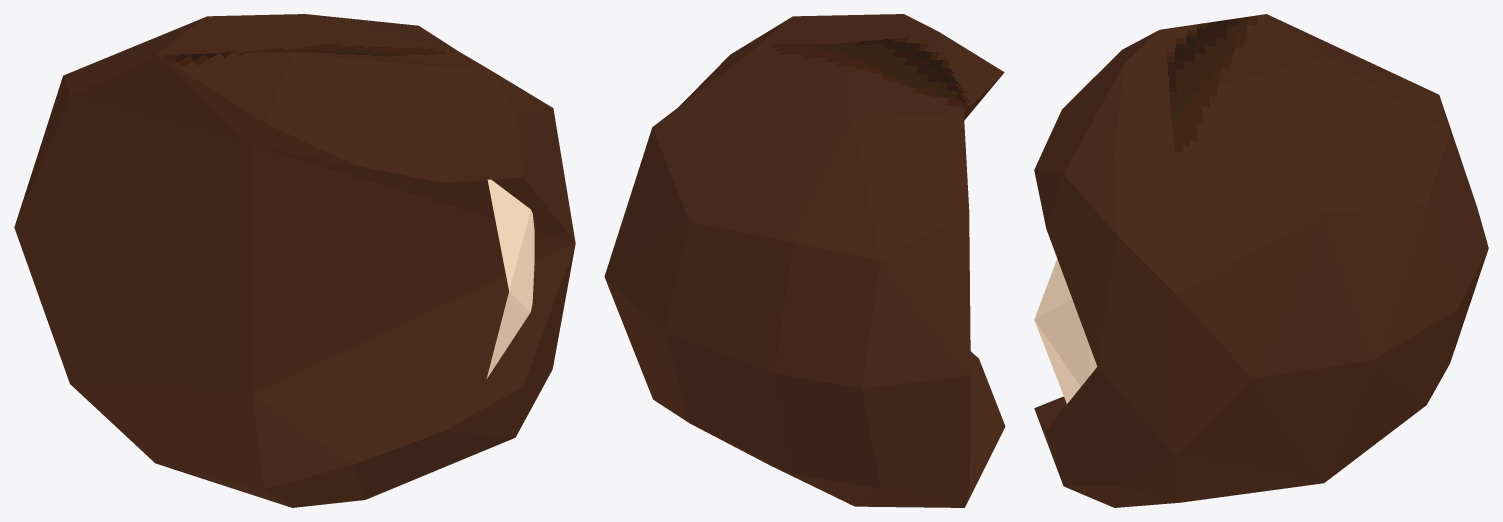
The model's file is hair19.glb.
The picture shows the model from 3 angles, left to right: view 1: azimuth 30°, elevation 25°; view 2: azimuth 150°, elevation 25°; view 3: azimuth 270°, elevation 25°; orthographic projection. The views are drawn at different scales.
Visible parts, largest first — view 1: tomodachi-2026-03-13-22-18-14-682, tomodachi-2026-03-13-22-18-14-682.008; view 2: tomodachi-2026-03-13-22-18-14-682; view 3: tomodachi-2026-03-13-22-18-14-682, tomodachi-2026-03-13-22-18-14-682.008.
Part boxes in pixels (box(x1,y1,x2,y2)): tomodachi-2026-03-13-22-18-14-682: box(14, 14, 575, 507); tomodachi-2026-03-13-22-18-14-682.008: box(486, 179, 534, 378); tomodachi-2026-03-13-22-18-14-682: box(604, 14, 1005, 507); tomodachi-2026-03-13-22-18-14-682: box(1034, 14, 1488, 507); tomodachi-2026-03-13-22-18-14-682.008: box(1034, 259, 1097, 403).
Bounding box in the file's own units: 1.31 × 1.32 × 1.24.
2 materials, 2 textured.
